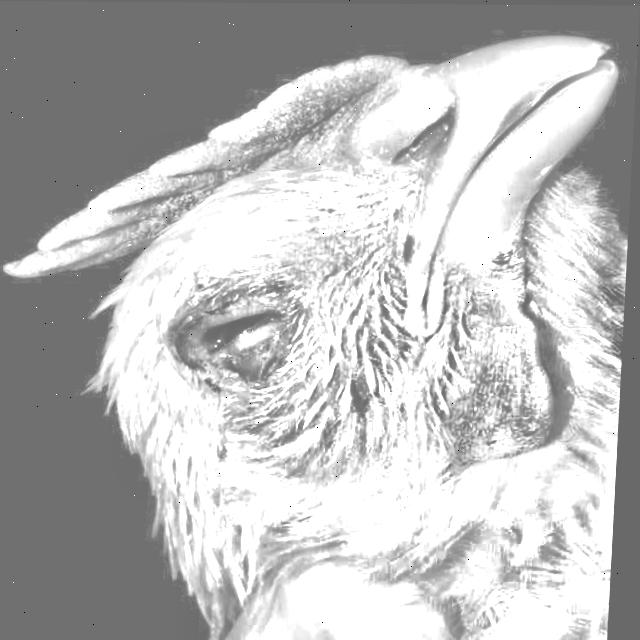Newcastle: (0, 31, 639, 640)
